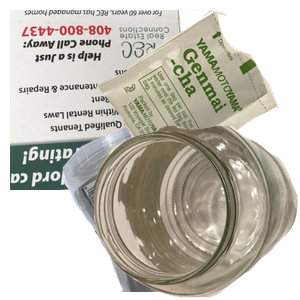glass: (94, 126, 300, 300)
paper: (10, 10, 201, 190)
plastic: (60, 120, 300, 300)
trash: (91, 10, 300, 186)
